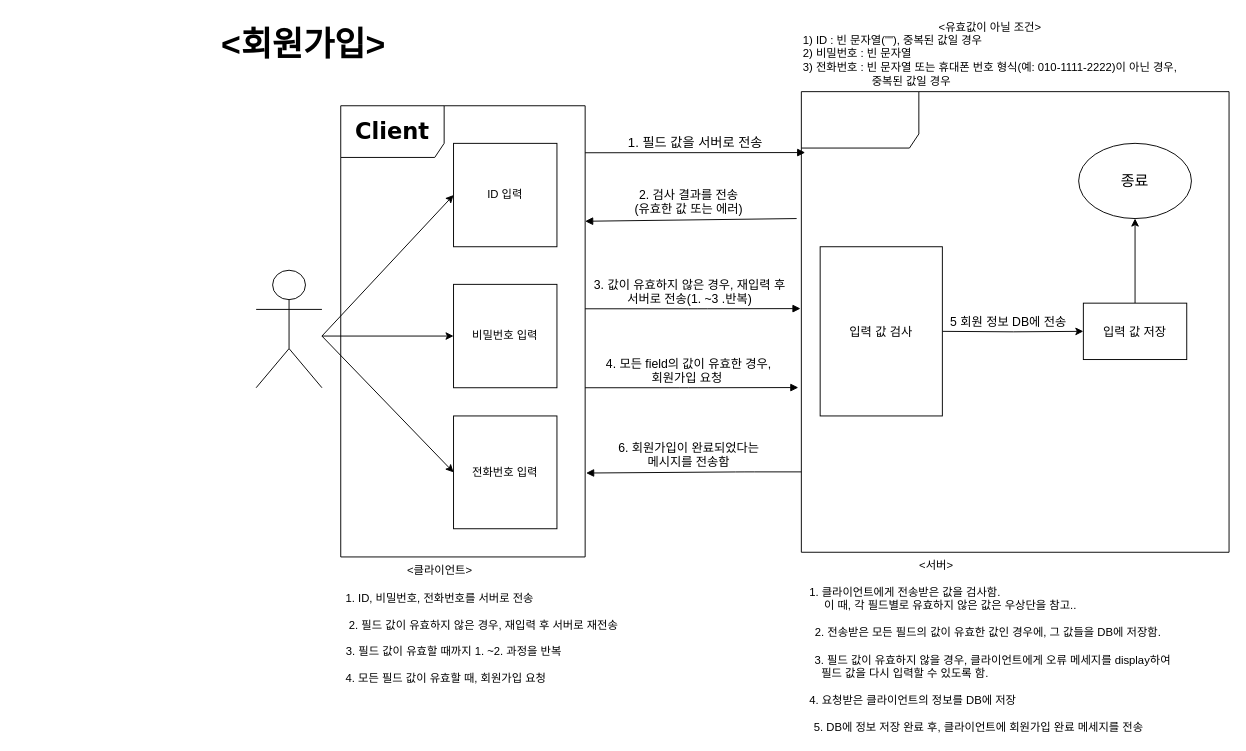
The diagram is 1246 pixels wide and 751 high, and some of its shapes have lost their labels. The shapes that lost their labels are listed below. From the top down, each one's centre as x and y in pixels, then its label:
At point (288, 328): "User".
At point (1014, 321): "Server".
